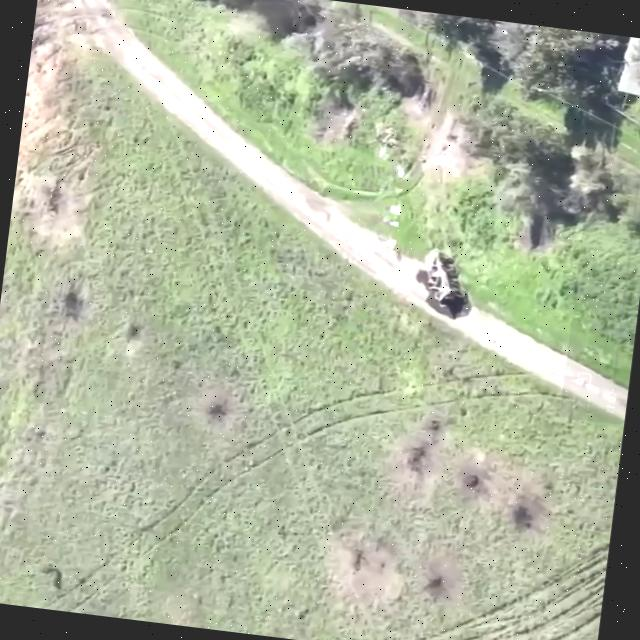AIFV: (417, 245, 473, 312)
